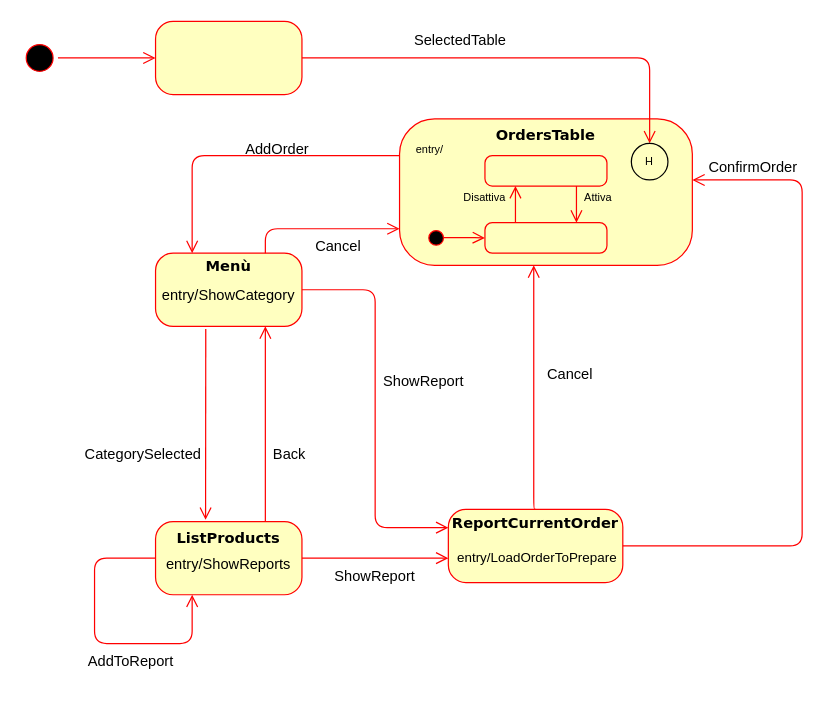
Some shapes in this 836 by 702 pixel diagram are drawn without their labels. Each missing label, with the centre of its shape:
ListTables: (228,57)
Tavolo attivato: (545,170)
Tavolo disattivato: (545,237)
